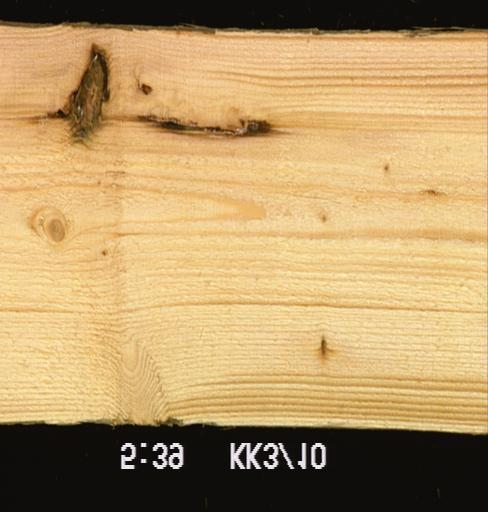small_knot: (316, 331, 327, 358), (380, 161, 391, 173), (319, 214, 328, 222)
sound_knot: (44, 217, 65, 244)
wave: (0, 415, 218, 427)
